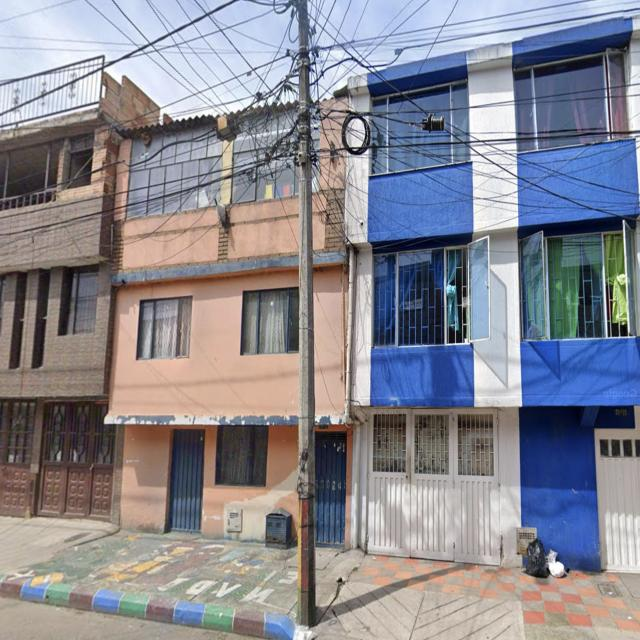Fachada: (345, 18, 640, 571), (106, 103, 300, 541), (0, 57, 159, 520), (308, 115, 353, 545)
Poste: (296, 0, 316, 625)
